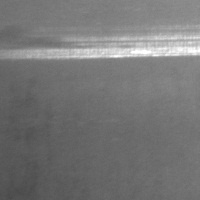scratches: (2, 27, 199, 61)
